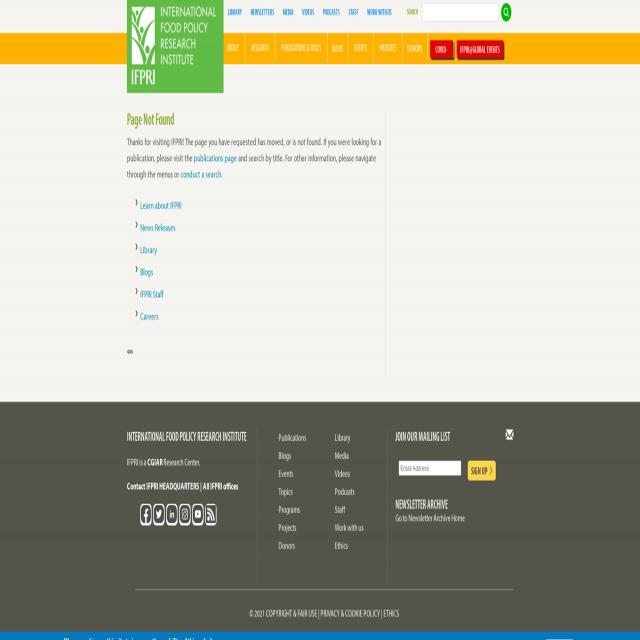button: (127, 0, 223, 93), (275, 34, 327, 62), (373, 33, 403, 61), (245, 34, 275, 62), (457, 39, 503, 57), (348, 33, 374, 61), (403, 34, 427, 62), (223, 34, 245, 62), (328, 34, 348, 62), (468, 460, 496, 480), (430, 40, 453, 58), (501, 2, 511, 22), (141, 504, 151, 522), (154, 504, 164, 522), (167, 504, 177, 522), (180, 504, 190, 522), (193, 504, 203, 522), (206, 504, 216, 522)
field: (422, 2, 498, 22), (399, 460, 461, 476)
